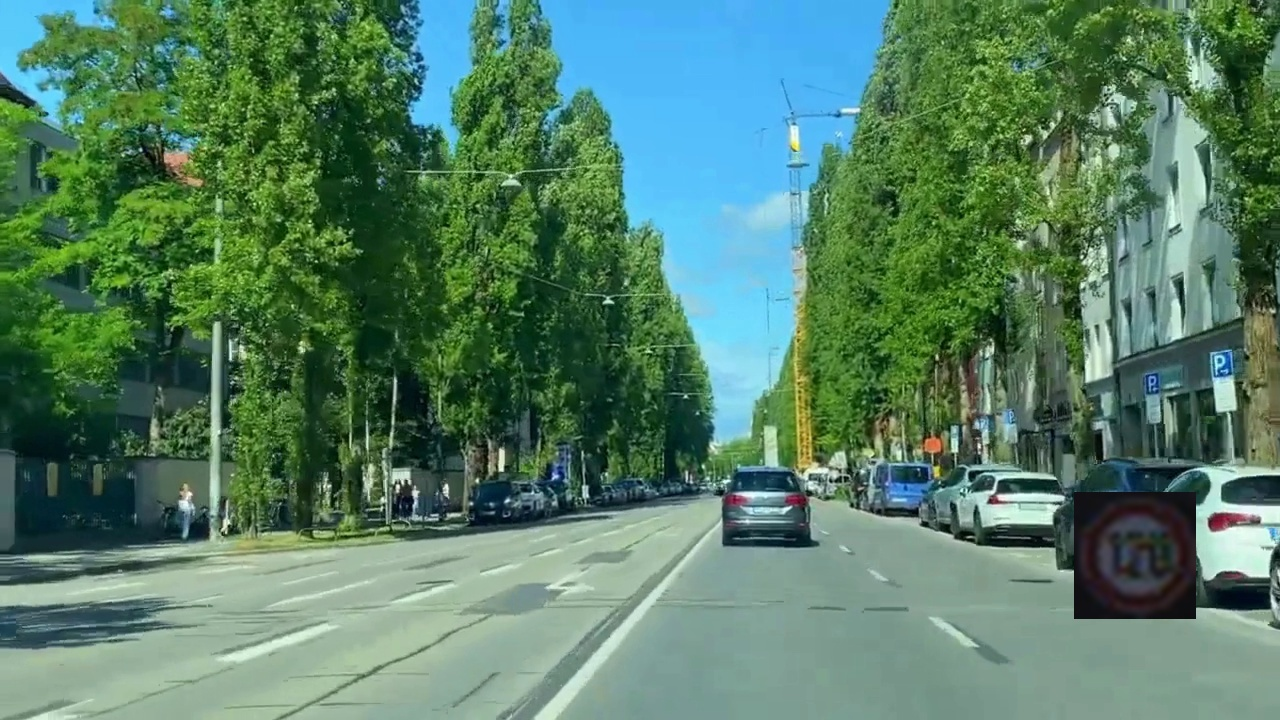Speed 120: (1074, 492, 1196, 619)
